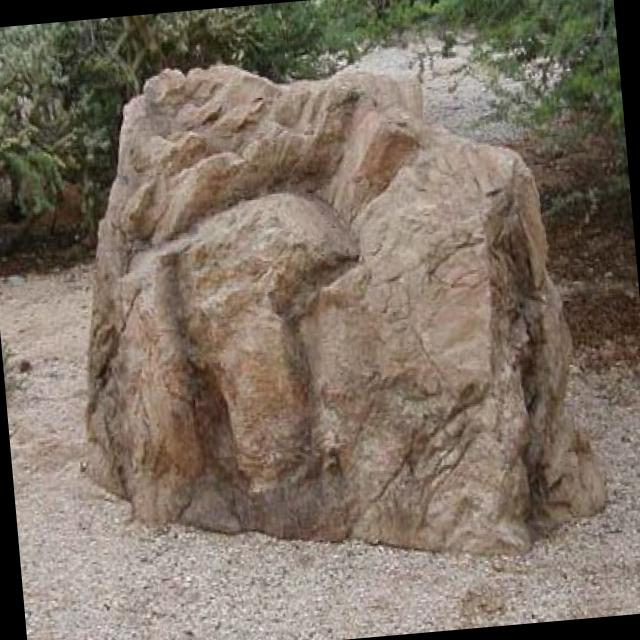stone: (86, 64, 604, 551)
white-sand: (0, 269, 640, 640)
